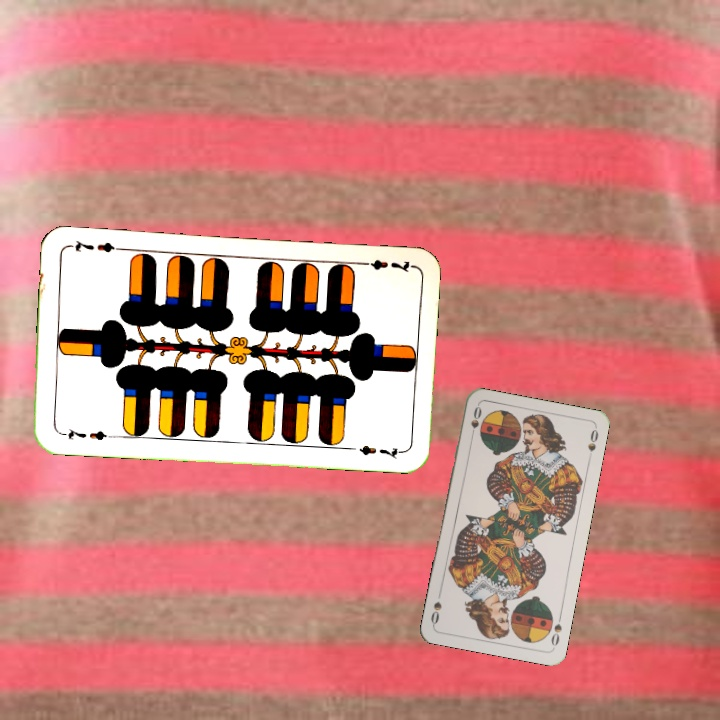E7: (355, 255, 414, 275), (56, 425, 115, 443)
SO: (466, 402, 484, 443), (547, 610, 565, 648)
